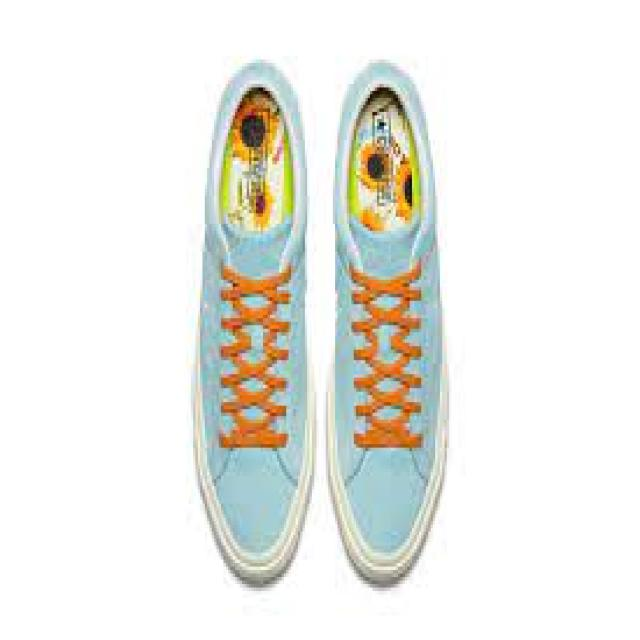shoes: (194, 59, 319, 595), (329, 66, 451, 596)
